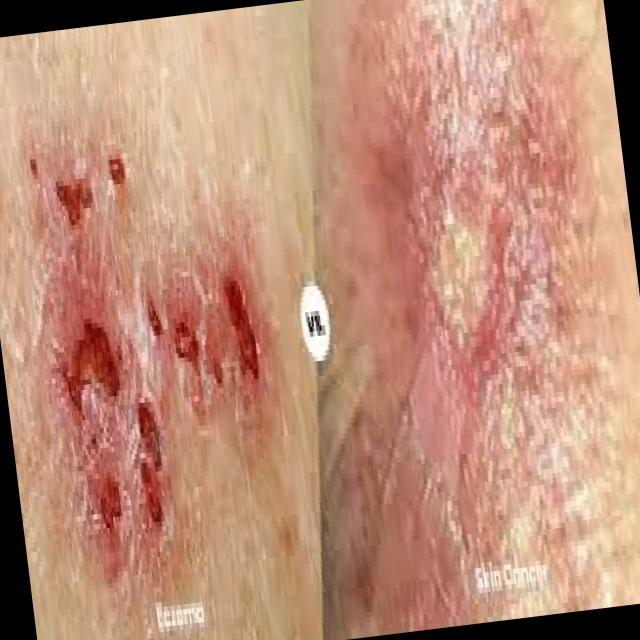Eczema: (358, 1, 576, 567), (34, 151, 264, 586)
